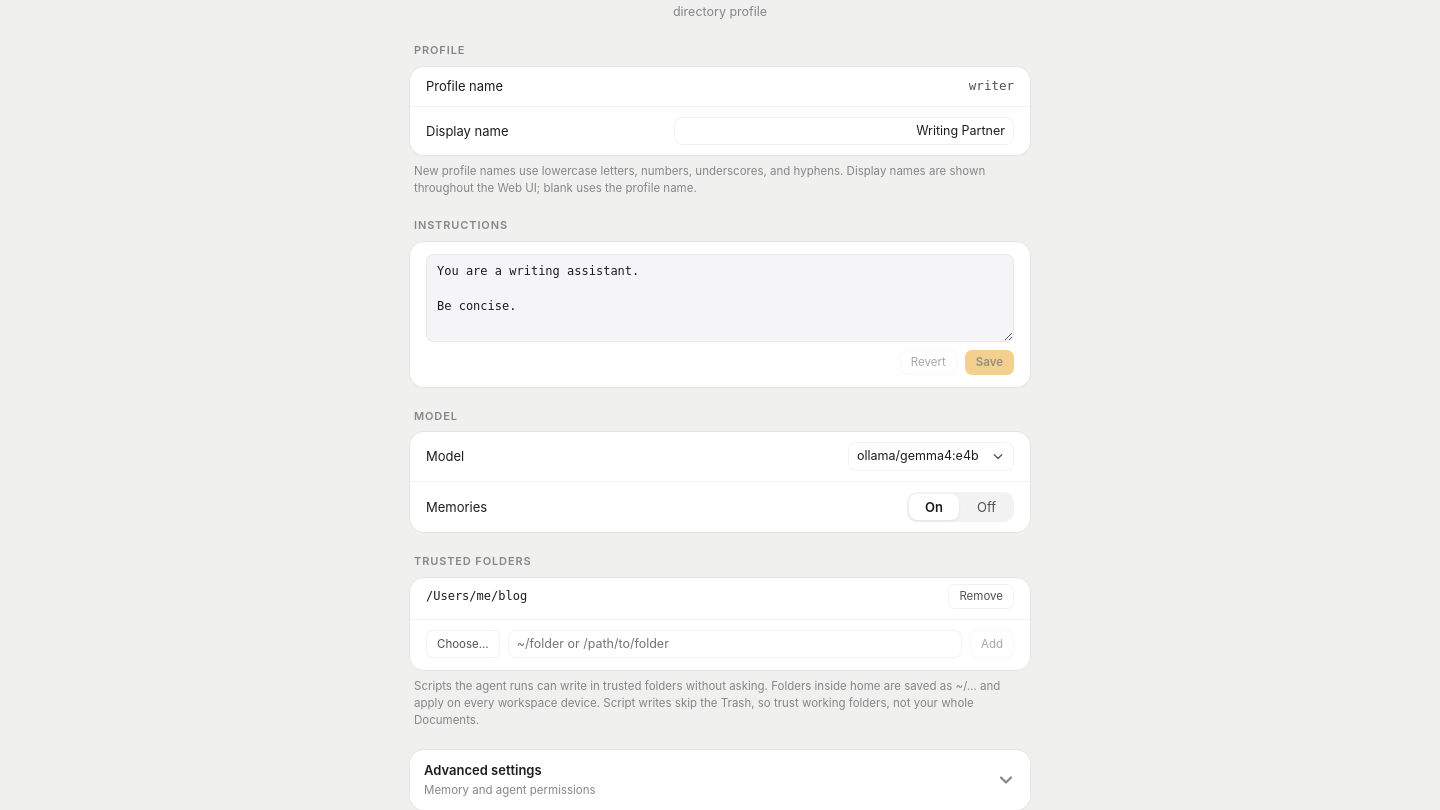
Test: ProfileSettingsPage › shows trusted folders outside Advanced and adds one chosen in the folder picker
The width and height of the screenshot is (1440, 810).
(page scrolled)
Check: the text "/Users/me/blog" is shown, box [426, 588, 527, 605]
Step 1. Click the button "Choose…" → (463, 644), box [426, 630, 500, 658]
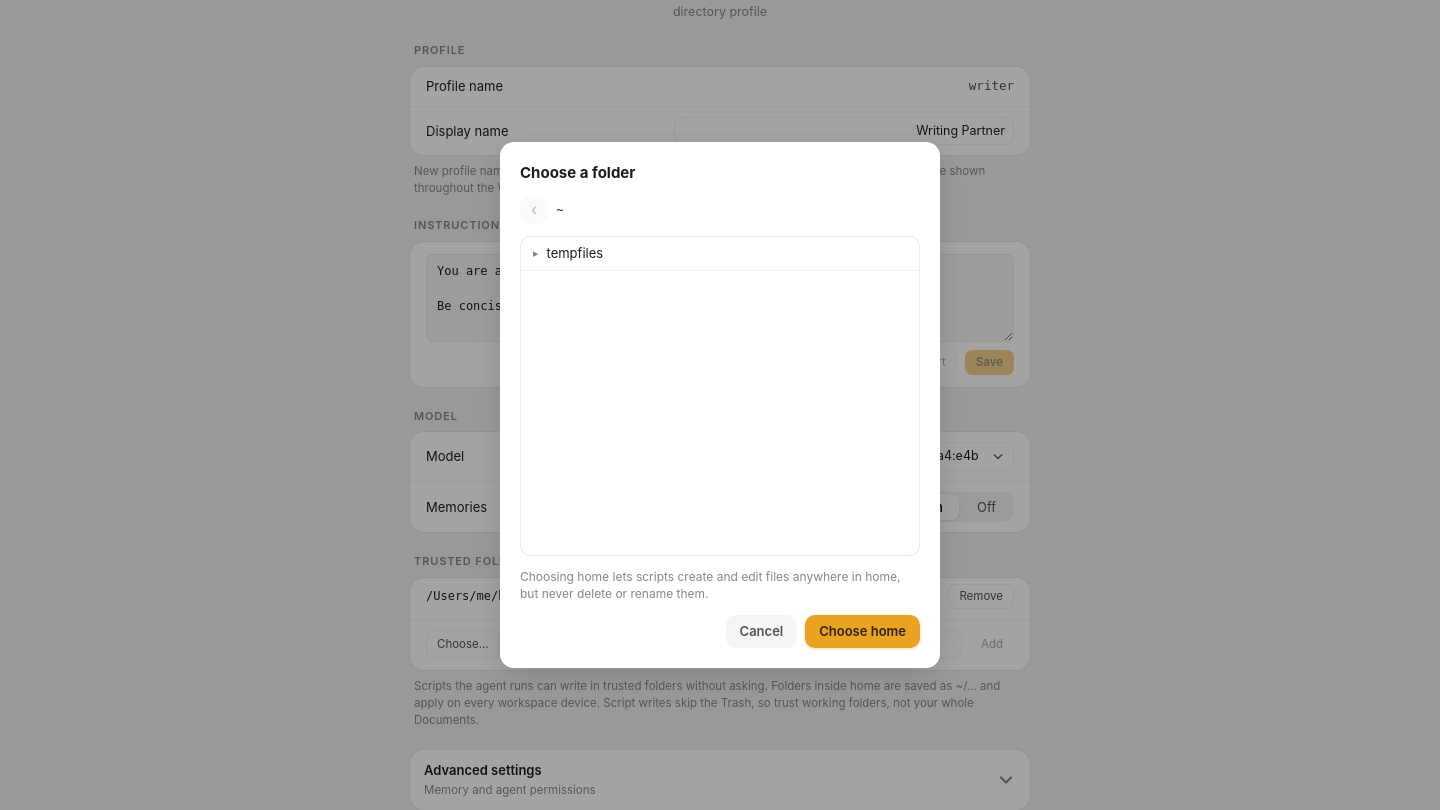
Step 2. Click the button "▸ tempfiles" → (575, 253), box [521, 237, 919, 271]
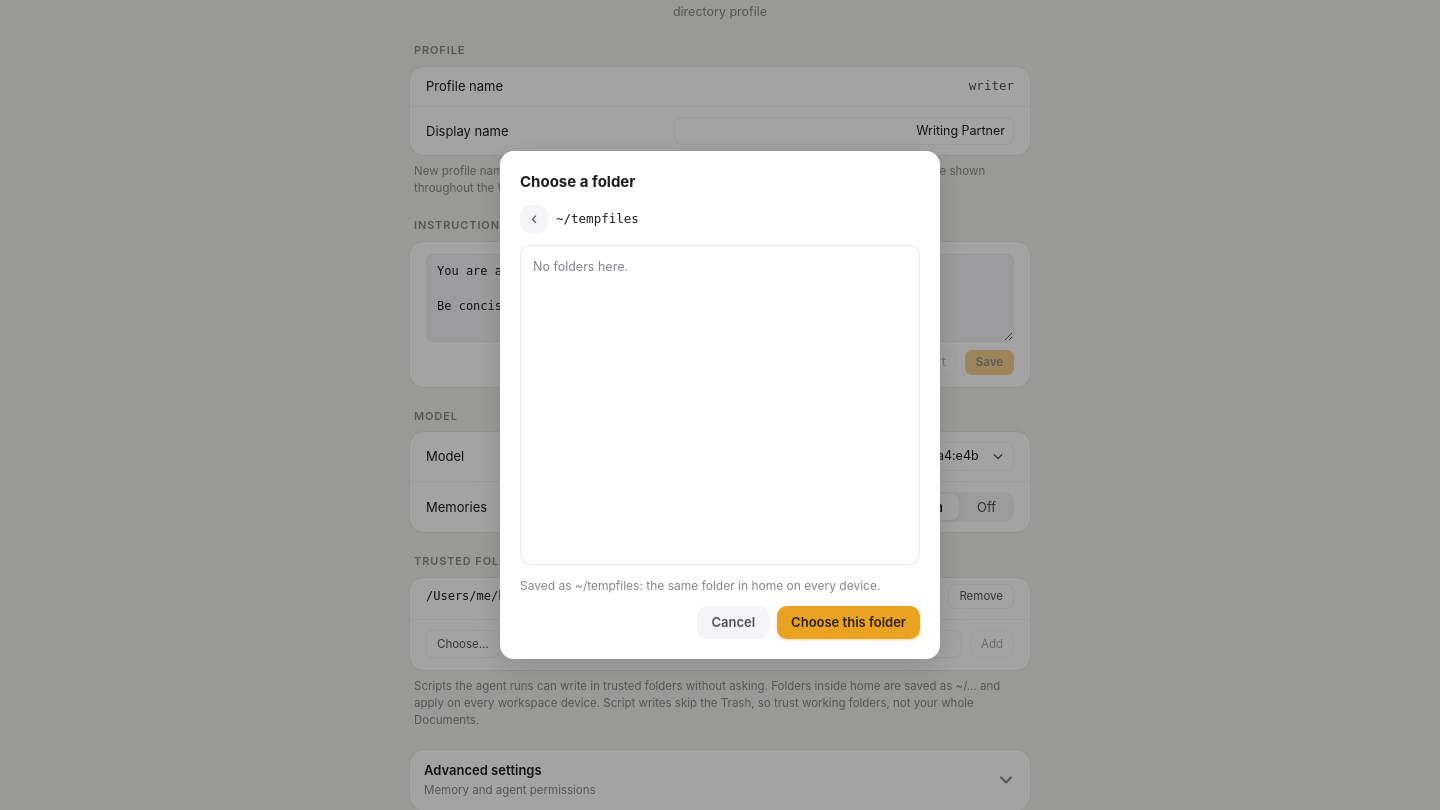
Check: the text "No folders here." is shown, box [533, 259, 628, 274]
Step 3. Click the button "Choose this folder" → (849, 622), box [777, 606, 920, 639]
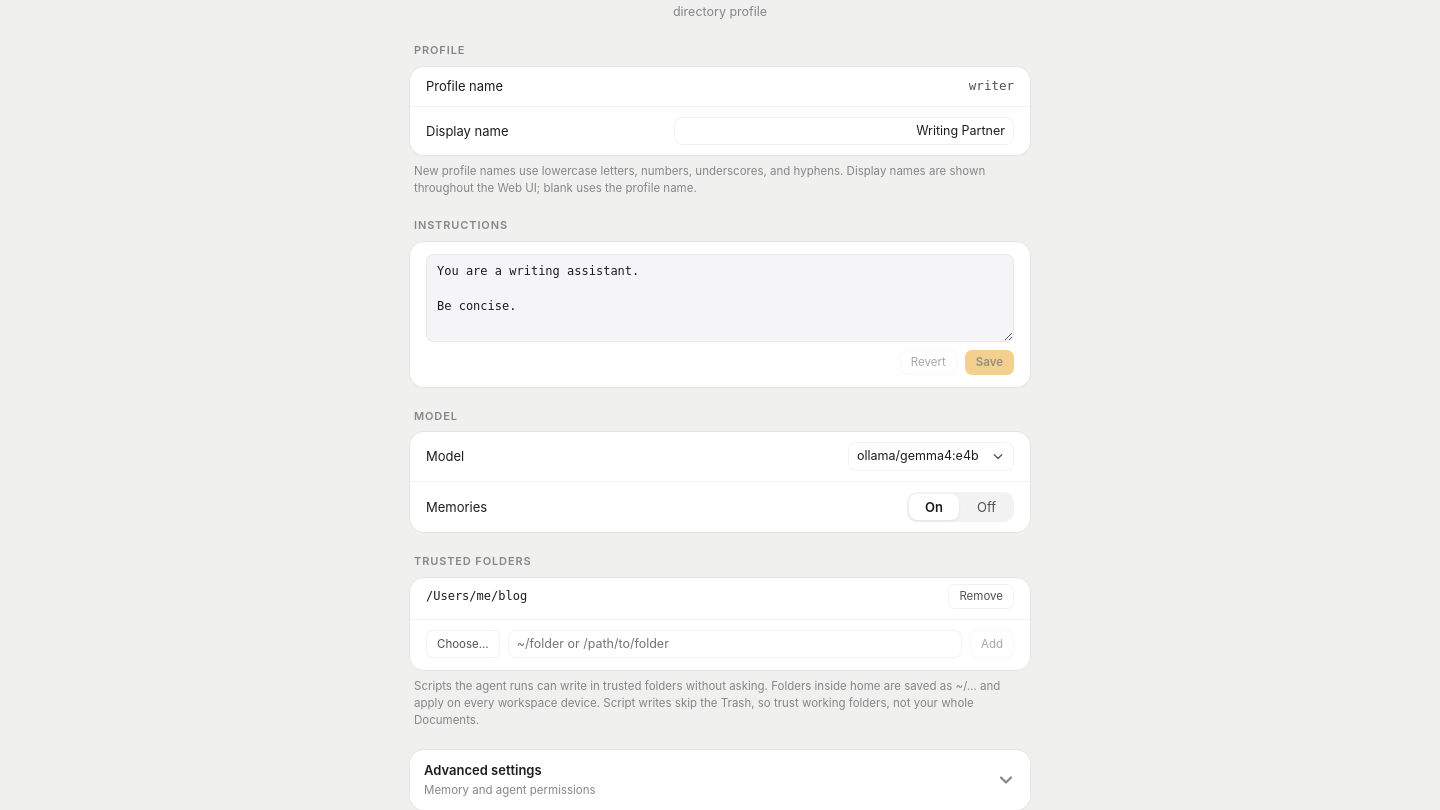
Check: the text "Choose a folder" is gone
